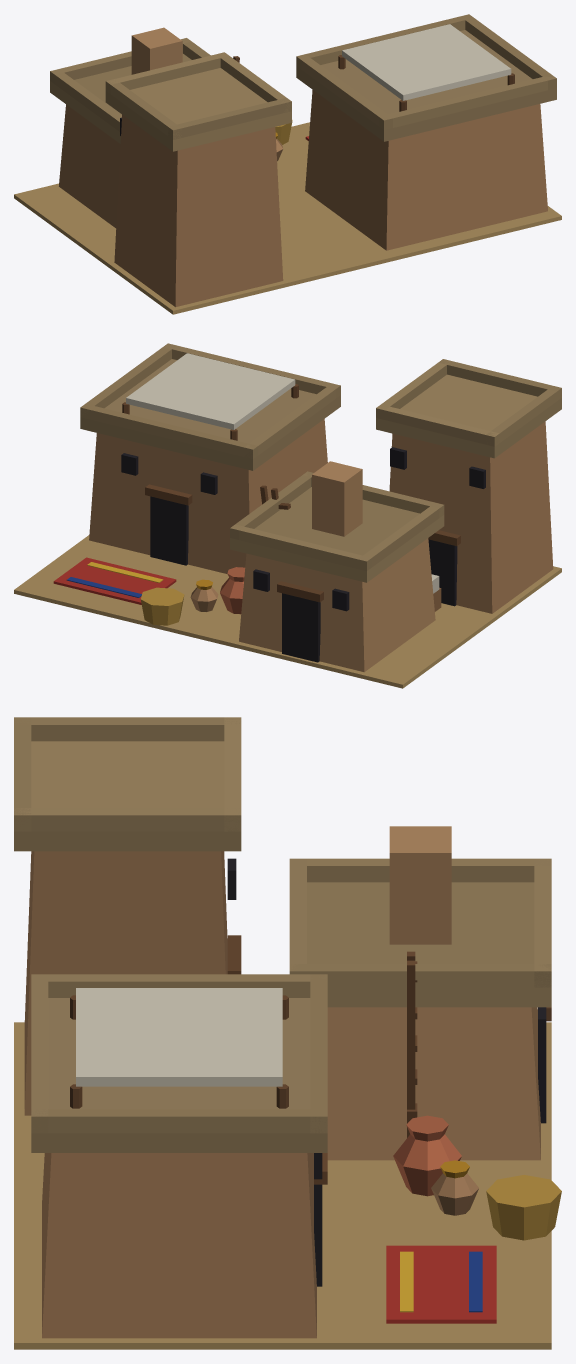
File: Decor_PharaohPyramid_Village.fbx
3 views of the same model, one above another, from view 1: azimuth 30°, elevation 25°; view 2: azimuth 150°, elevation 25°; view 3: azimuth 270°, elevation 25° (orthographic). The views are drawn at different scales.
Visible parts, largest first — view 1: Village_Body; view 2: Village_Body; view 3: Village_Body.
Part boxes in pixels (box(x1,y1,x2,y2)): Village_Body: box(14, 14, 561, 314); Village_Body: box(14, 343, 561, 688); Village_Body: box(14, 717, 561, 1349).
Size of the model in its own units: 21.6 by 9.78 by 15.6.
